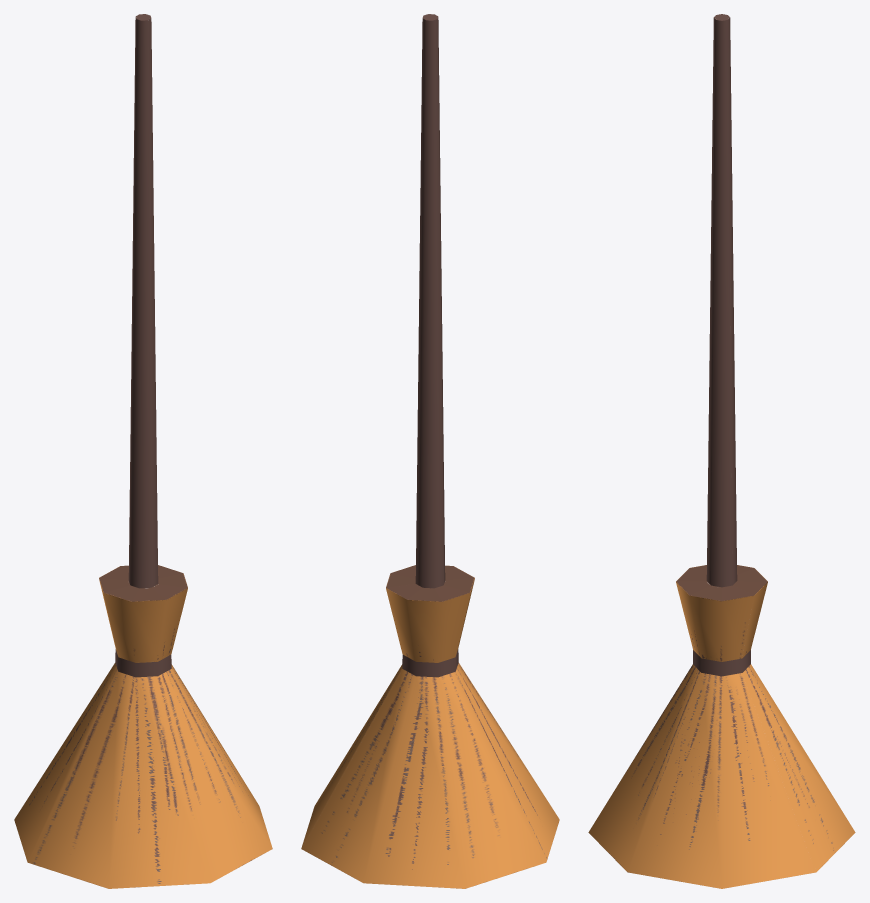
Rendered from sapu(2).fbx.
3 renders of one model, left to right at view 1: azimuth 30°, elevation 25°; view 2: azimuth 150°, elevation 25°; view 3: azimuth 270°, elevation 25°, orthographic.
Parts seen in each view (by area): view 1: sapu.001; view 2: sapu.001; view 3: sapu.001.
Part boxes in pixels (box(x1,y1,x2,y2)): sapu.001: box(14, 14, 272, 888); sapu.001: box(301, 14, 559, 888); sapu.001: box(588, 14, 855, 888).
Size of the model in its own units: 42.51 by 143 by 42.51.
